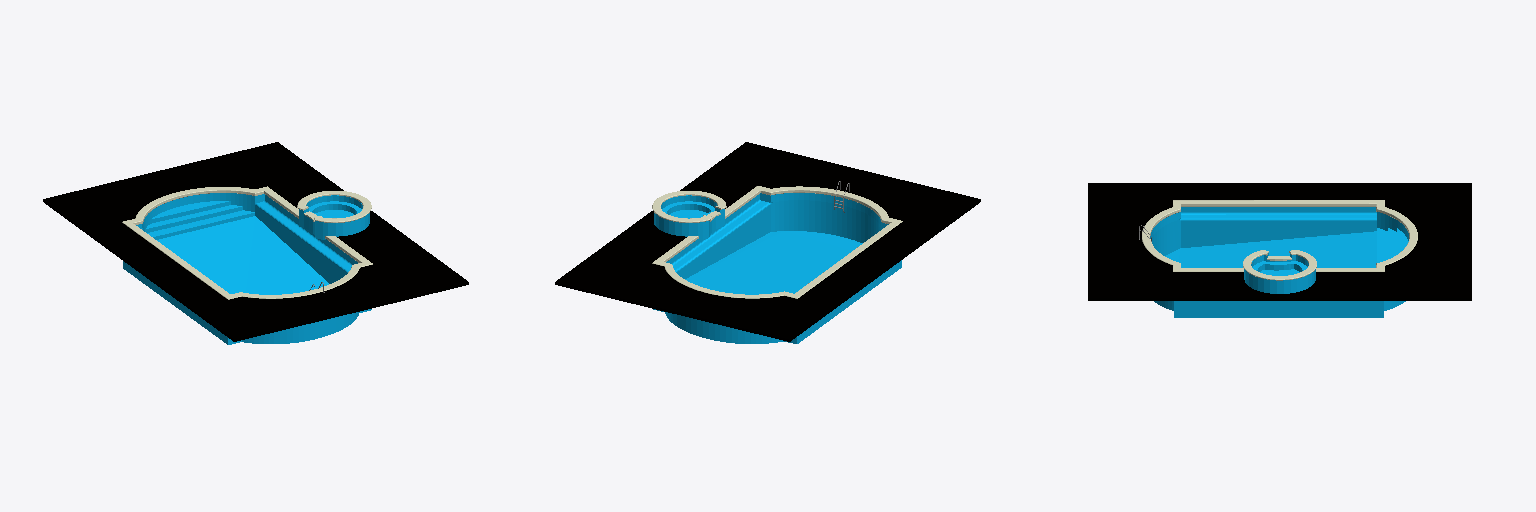
Rendered from dobleromanica.obj.
The picture shows the model from 3 angles: view 1: azimuth 30°, elevation 25°; view 2: azimuth 150°, elevation 25°; view 3: azimuth 270°, elevation 25°; orthographic projection.
Visible parts, largest first — view 1: dobleromanica_suelo_sombra, dobleromanica_sombra, dobleromanica_borde_sombra, escalera_obra_dobleromanica_sombra, jacuzzi_dobleromanica_sombra, jacuzzi_borde_dobleromanica_sombra; view 2: dobleromanica_suelo_sombra, dobleromanica_sombra, dobleromanica_borde_sombra, jacuzzi_dobleromanica_sombra, jacuzzi_borde_dobleromanica_sombra; view 3: dobleromanica_suelo_sombra, dobleromanica_sombra, dobleromanica_borde_sombra, jacuzzi_dobleromanica_sombra, jacuzzi_borde_dobleromanica_sombra, escalera_obra_dobleromanica_sombra.
Boxes of the visible parts, x1=… form: dobleromanica_suelo_sombra: x1=43, y1=142, x2=468, y2=341; dobleromanica_sombra: x1=123, y1=193, x2=371, y2=344; dobleromanica_borde_sombra: x1=122, y1=186, x2=372, y2=299; escalera_obra_dobleromanica_sombra: x1=145, y1=201, x2=254, y2=239; jacuzzi_dobleromanica_sombra: x1=299, y1=195, x2=369, y2=239; jacuzzi_borde_dobleromanica_sombra: x1=297, y1=191, x2=371, y2=222; dobleromanica_suelo_sombra: x1=555, y1=142, x2=980, y2=341; dobleromanica_sombra: x1=653, y1=193, x2=901, y2=343; dobleromanica_borde_sombra: x1=652, y1=186, x2=902, y2=298; jacuzzi_dobleromanica_sombra: x1=654, y1=195, x2=724, y2=239; jacuzzi_borde_dobleromanica_sombra: x1=652, y1=191, x2=726, y2=222; dobleromanica_suelo_sombra: x1=1088, y1=183, x2=1471, y2=300; dobleromanica_sombra: x1=1150, y1=207, x2=1408, y2=317; dobleromanica_borde_sombra: x1=1142, y1=200, x2=1417, y2=271; jacuzzi_dobleromanica_sombra: x1=1244, y1=253, x2=1315, y2=293; jacuzzi_borde_dobleromanica_sombra: x1=1243, y1=250, x2=1316, y2=280; escalera_obra_dobleromanica_sombra: x1=1377, y1=228, x2=1408, y2=262.
Size of the model in its own units: 669 by 167 by 945.